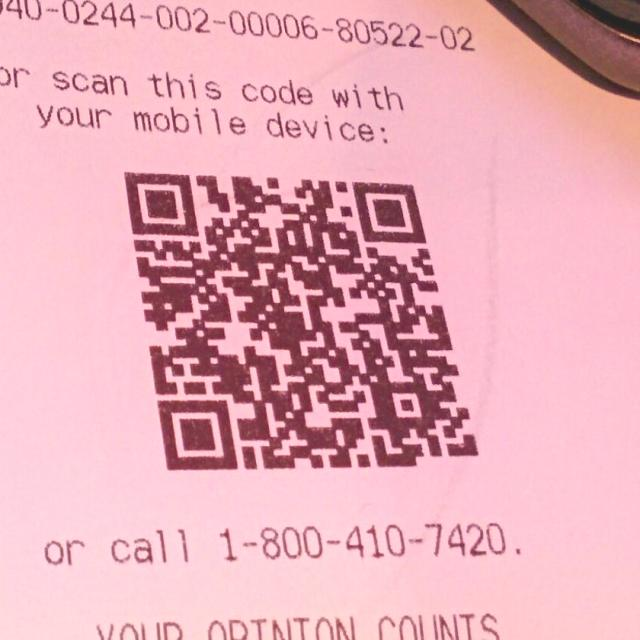QRCode: (109, 140, 502, 502)
